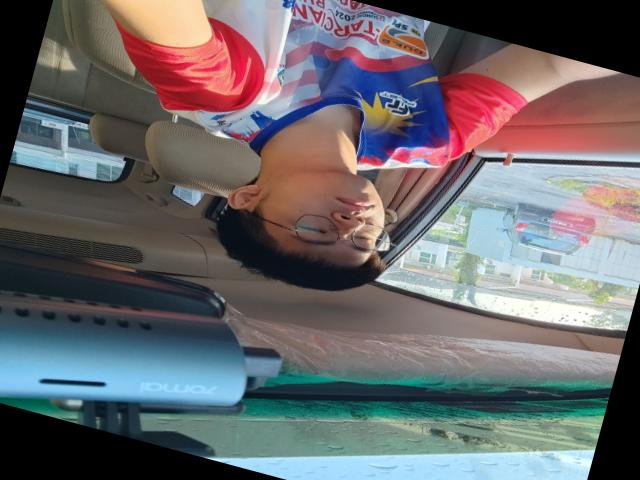eye_closed: (295, 218, 333, 241), (348, 228, 382, 250)
face: (270, 153, 400, 275)
